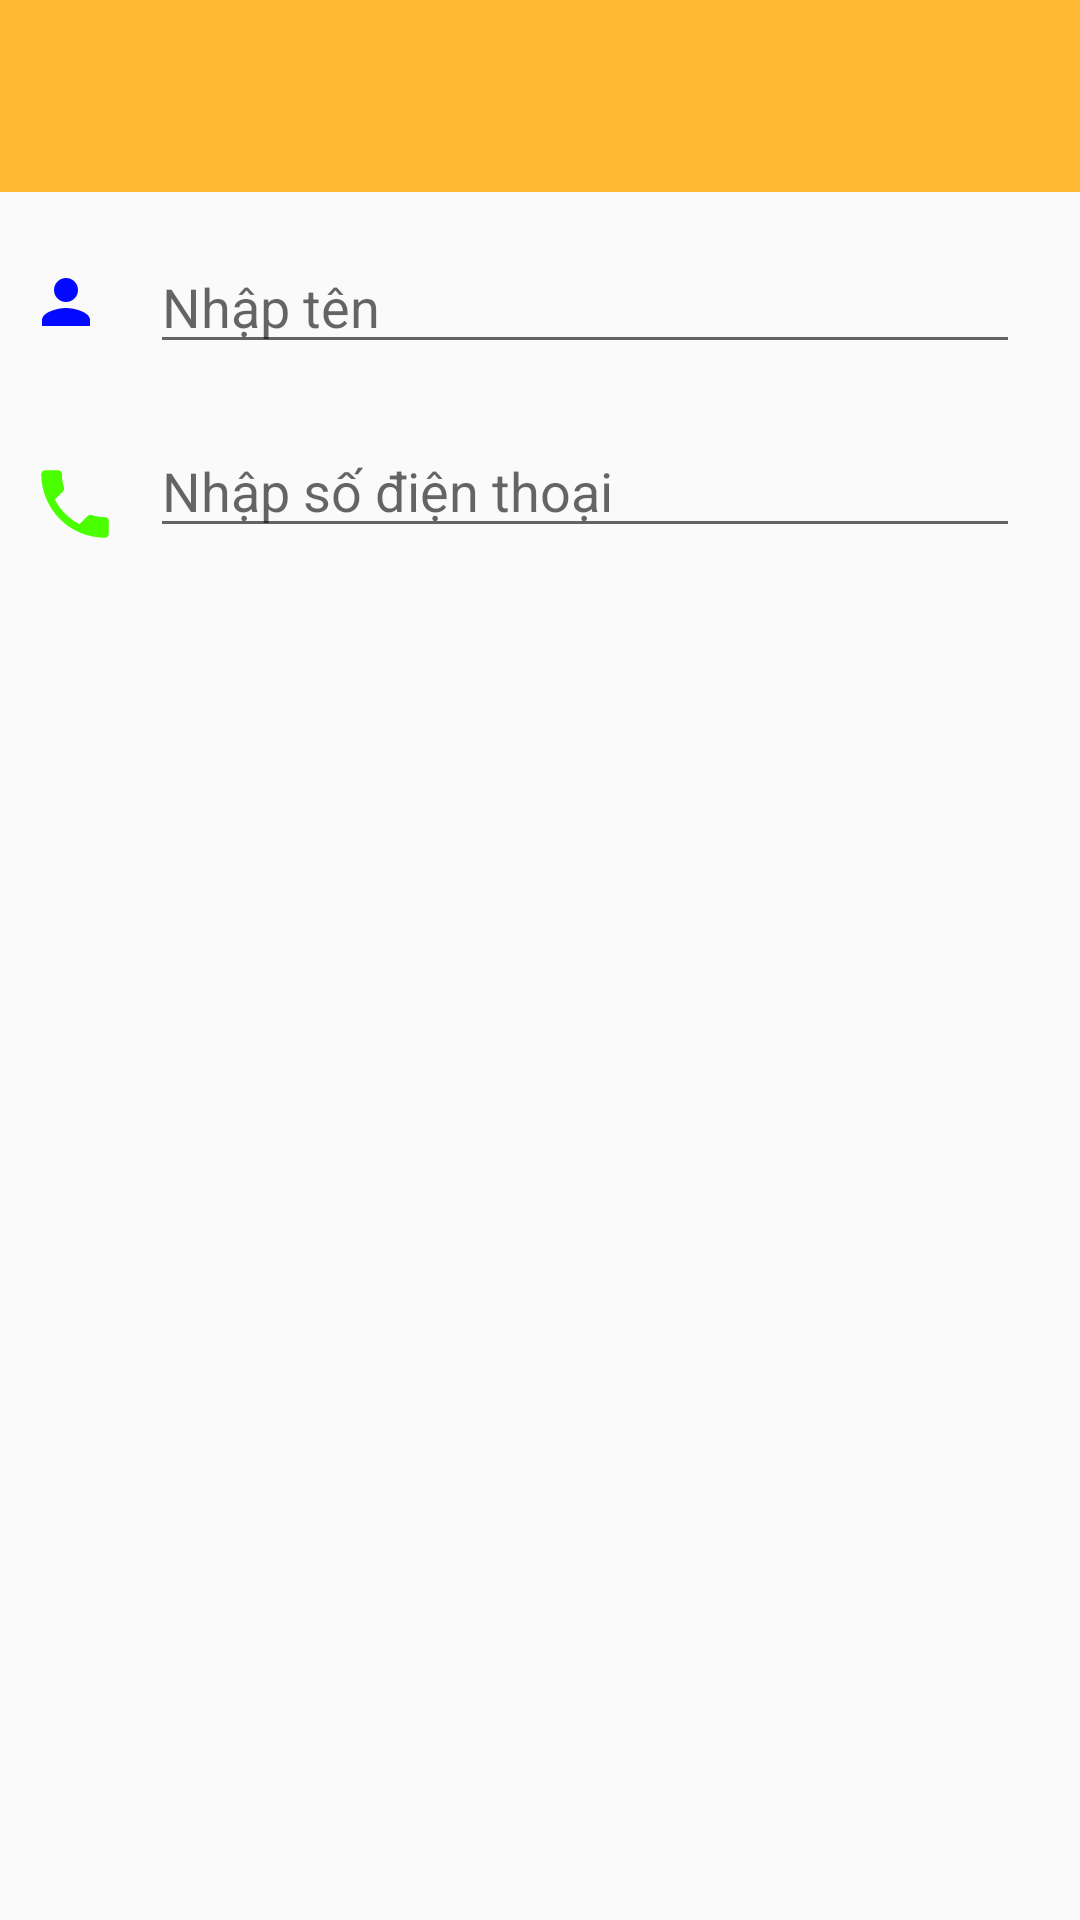

Locate icon controls on the screen. Image size 1080x1920, boxes as (x1, y1, x2, y2).
call: (41, 470, 109, 538)
person: (42, 278, 90, 326)
